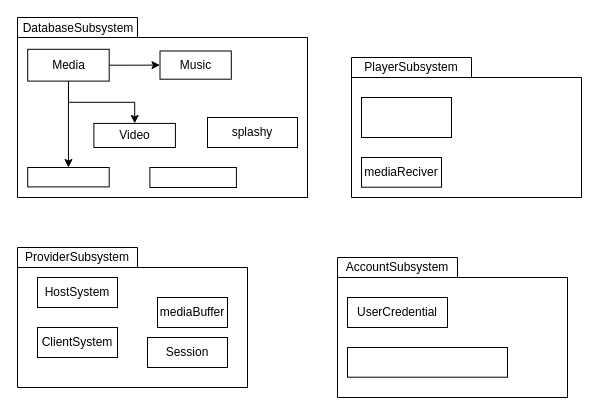
The diagram is 599 pixels wide and 415 high, and some of its shapes have lost their labels. The box of each missing label's shape, as (x1, y1, x2, y2) in pixels:
Image: (27, 166, 109, 187)
mediaPlayer: (360, 96, 452, 138)
mediaSender: (149, 166, 236, 188)
PlayerAuthantication: (346, 346, 508, 377)
